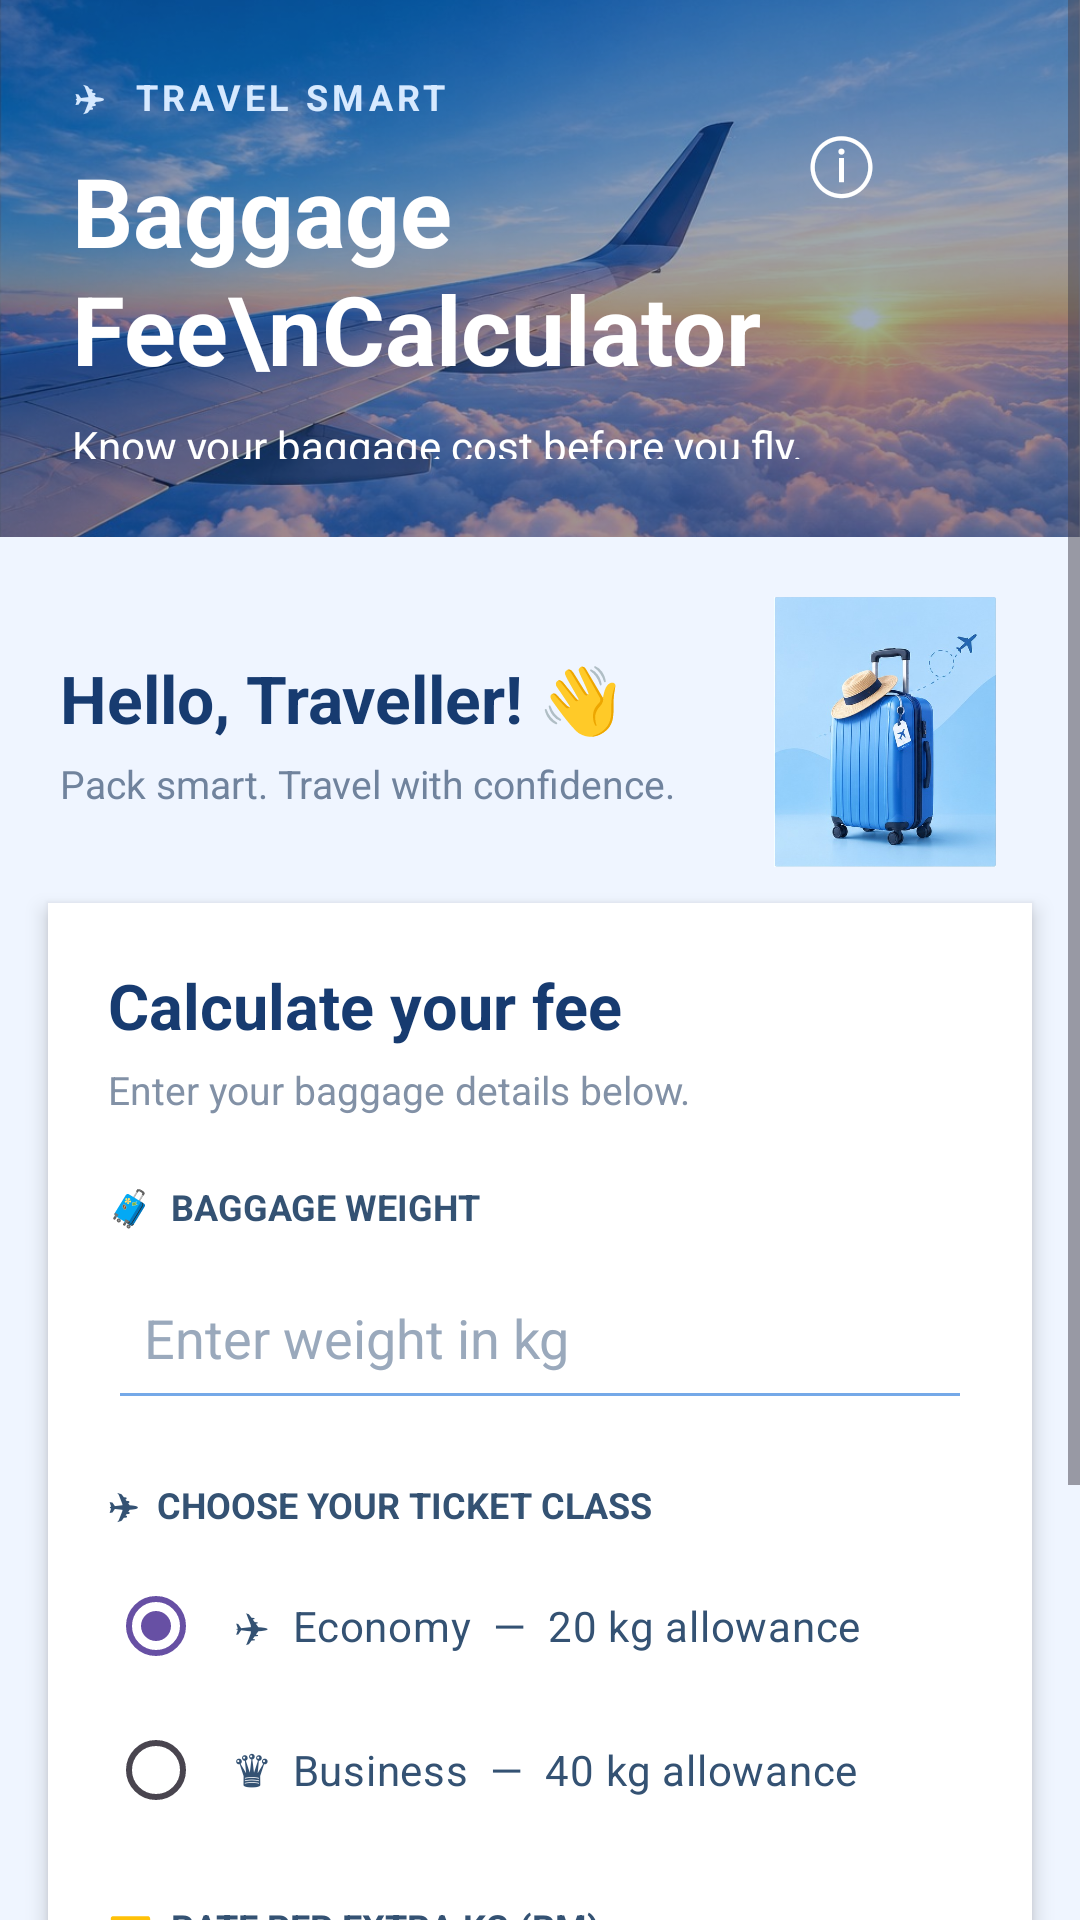

Point at icon controls on the screen. Image size 1080×1920, points as [x,y].
Travel luggage: [885,732]
